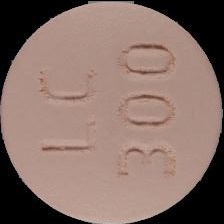51079-180: (0, 0, 224, 224)
